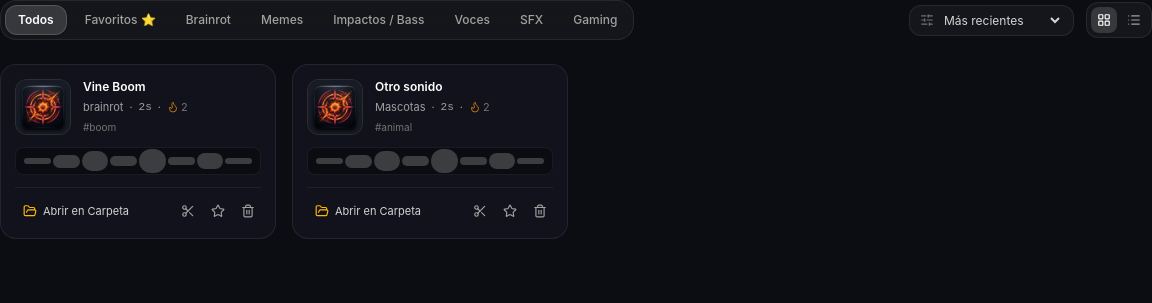
SoundLibrary › filtra por etiqueta, carpeta, favoritos y categoría
The width and height of the screenshot is (1152, 303).
Check: the heading "Otro sonido" is shown, box [375,79,442,95]
Click the button "Favoritos ⭐" at (120, 20), box [73,6,168,34]
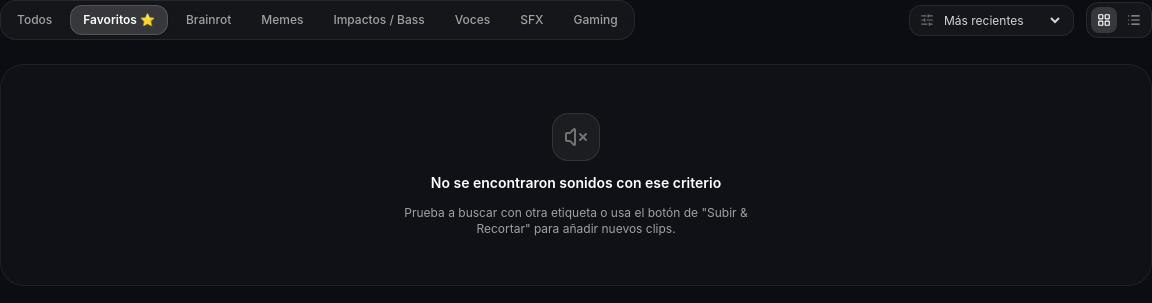
Check: the heading "Otro sonido" is gone
Click the button "SFX" at (532, 20), box [508,6,556,34]
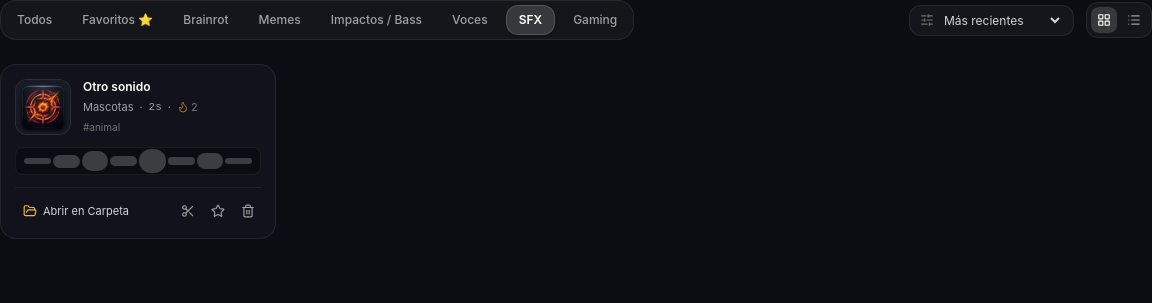
Check: the heading "Vine Boom" is not shown
Check: the heading "Otro sonido" is shown, box [83,79,150,95]
